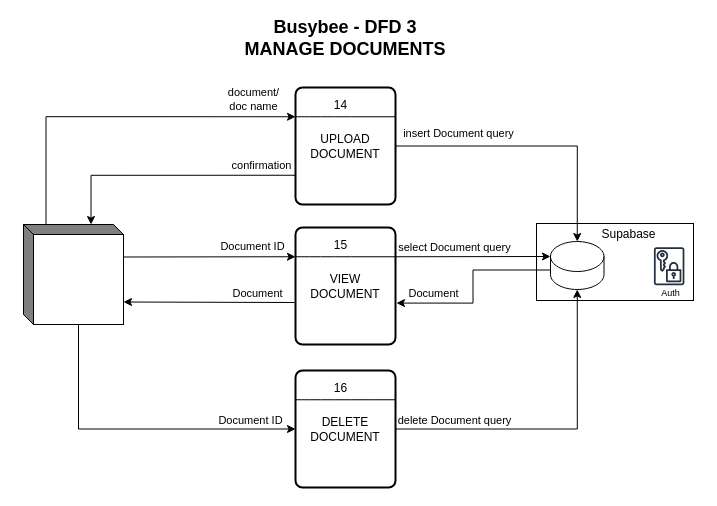
This 717x506 diagram has some shape labels left out. Here are the shapes that lost their labels. From the top down, the centre of each, then its label:
At (73,274): "User".
At (577,265): "Postgres".
